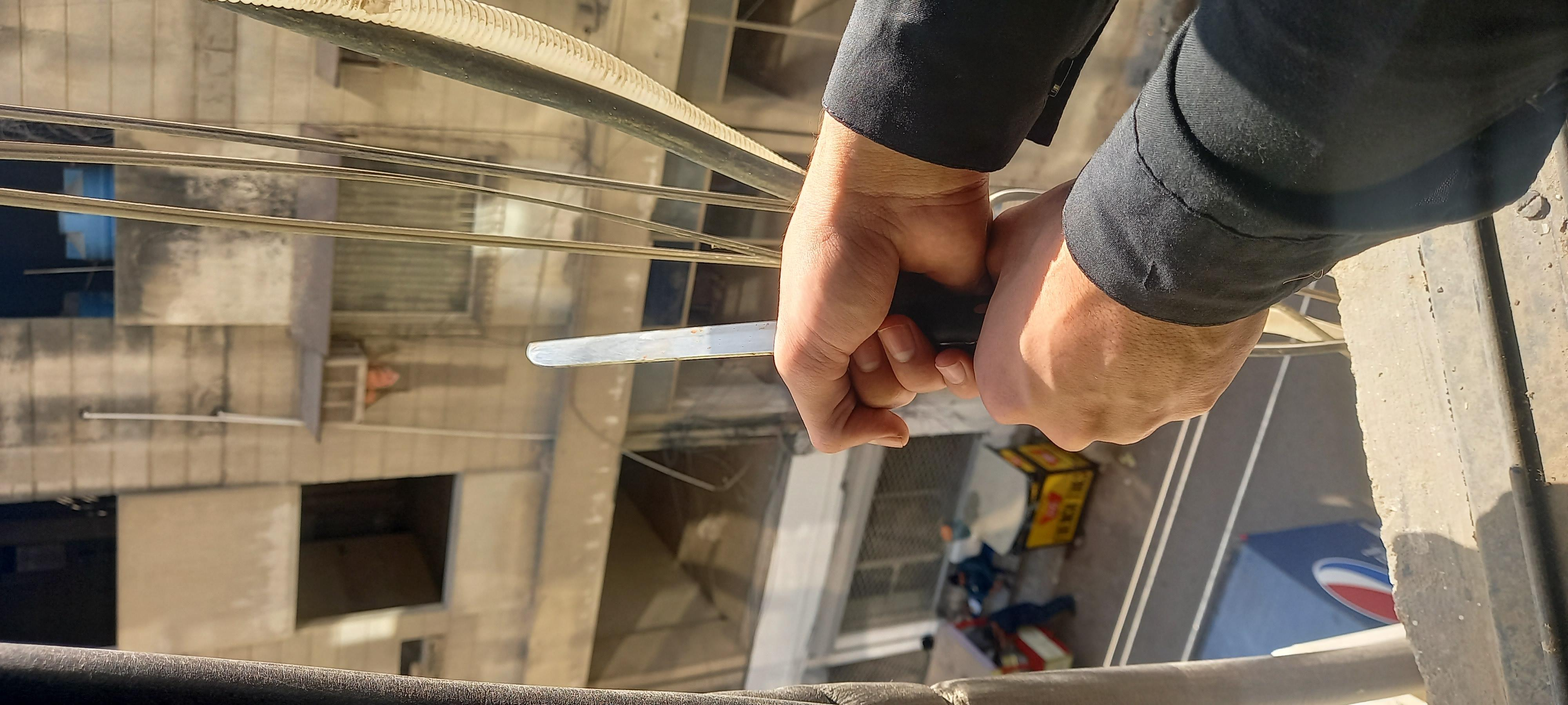knives: (705, 232, 928, 446)
